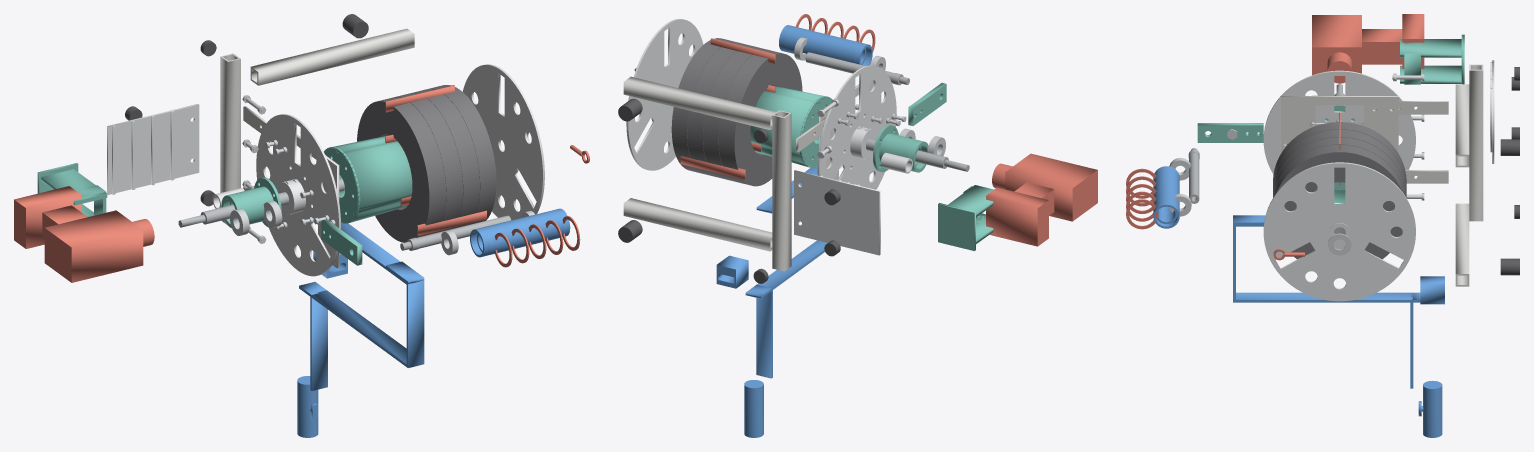
File: Navaneeth_Compact_40M_v2_Exploded.glb
The picture shows the model from 3 angles, left to right: view 1: azimuth 30°, elevation 25°; view 2: azimuth 150°, elevation 25°; view 3: azimuth 270°, elevation 25°; orthographic projection. The views are drawn at different scales.
Parts seen in each view (by area): view 1: REF-01_40m ALLWIN GOLD Tropfband-Rolle (4-Spur), REF-02_INGCO CIDLI12206 12V Bohrschrauber, P-01_Hinterer Flansch mit Nabe (REV-01/03), REF-03_Stationaerer Ventilanschluss & Bandpfad (REV-07), P-04_Vorderer Schutzflansch (REV-01), P-20_Fussplatte Z=12..18 (REV-05), P-02_Konische Trommel mit Umreifungskanaelen (REV-01), P-19_Bodenschienen Links & Rechts, P-18_Quertraeger Hohlprofil 20x20, P-15_Band-Fuehrungsrolle d=38mm (REV-02), P-21_Bohrschrauber-Drehmomentstuetze (REV-04), P-09_Abgesetztes Lagergehaeuse (REV-03) (+9 smaller); view 2: REF-01_40m ALLWIN GOLD Tropfband-Rolle (4-Spur), REF-02_INGCO CIDLI12206 12V Bohrschrauber, P-19_Bodenschienen Links & Rechts, P-01_Hinterer Flansch mit Nabe (REV-01/03), P-20_Fussplatte Z=12..18 (REV-05), P-04_Vorderer Schutzflansch (REV-01), REF-03_Stationaerer Ventilanschluss & Bandpfad (REV-07), P-18_Quertraeger Hohlprofil 20x20, P-02_Konische Trommel mit Umreifungskanaelen (REV-01), P-21_Bohrschrauber-Drehmomentstuetze (REV-04), P-15_Band-Fuehrungsrolle d=38mm (REV-02), P-23_Elastomer-Standfuesse & Pads (REV-05) (+9 smaller); view 3: P-04_Vorderer Schutzflansch (REV-01), REF-01_40m ALLWIN GOLD Tropfband-Rolle (4-Spur), REF-02_INGCO CIDLI12206 12V Bohrschrauber, P-01_Hinterer Flansch mit Nabe (REV-01/03), REF-03_Stationaerer Ventilanschluss & Bandpfad (REV-07), P-11_Haupt-Chassisplatte, P-19_Bodenschienen Links & Rechts, P-21_Bohrschrauber-Drehmomentstuetze (REV-04), P-18_Quertraeger Hohlprofil 20x20, P-15_Band-Fuehrungsrolle d=38mm (REV-02), P-17_Beinleisten Links & Rechts, P-12_Verstaerkter Fuehrungsarm 8mm (REV-02) (+7 smaller).
Boxes of the visible parts, x1,y1,x2,y2 form: REF-01_40m ALLWIN GOLD Tropfband-Rolle (4-Spur): (357, 85, 496, 242); REF-02_INGCO CIDLI12206 12V Bohrschrauber: (14, 186, 154, 282); P-01_Hinterer Flansch mit Nabe (REV-01/03): (256, 114, 340, 276); REF-03_Stationaerer Ventilanschluss & Bandpfad (REV-07): (297, 222, 424, 437); P-04_Vorderer Schutzflansch (REV-01): (462, 64, 544, 220); P-20_Fussplatte Z=12..18 (REV-05): (107, 104, 199, 194); P-02_Konische Trommel mit Umreifungskanaelen (REV-01): (324, 135, 412, 223); P-19_Bodenschienen Links & Rechts: (250, 28, 414, 85); P-18_Quertraeger Hohlprofil 20x20: (220, 53, 240, 225); P-15_Band-Fuehrungsrolle d=38mm (REV-02): (470, 208, 570, 257); P-21_Bohrschrauber-Drehmomentstuetze (REV-04): (37, 163, 107, 216); P-09_Abgesetztes Lagergehaeuse (REV-03): (221, 177, 281, 228); REF-01_40m ALLWIN GOLD Tropfband-Rolle (4-Spur): (671, 38, 802, 186); REF-02_INGCO CIDLI12206 12V Bohrschrauber: (986, 153, 1097, 246); P-19_Bodenschienen Links & Rechts: (623, 76, 775, 251); P-01_Hinterer Flansch mit Nabe (REV-01/03): (817, 65, 896, 189); P-20_Fussplatte Z=12..18 (REV-05): (794, 170, 880, 255); P-04_Vorderer Schutzflansch (REV-01): (626, 19, 703, 170); REF-03_Stationaerer Ventilanschluss & Bandpfad (REV-07): (744, 167, 827, 437); P-18_Quertraeger Hohlprofil 20x20: (772, 110, 791, 271); P-02_Konische Trommel mit Umreifungskanaelen (REV-01): (750, 85, 832, 167); P-21_Bohrschrauber-Drehmomentstuetze (REV-04): (938, 185, 993, 250); P-15_Band-Fuehrungsrolle d=38mm (REV-02): (779, 25, 872, 65); P-23_Elastomer-Standfuesse & Pads (REV-05): (618, 98, 840, 283); P-04_Vorderer Schutzflansch (REV-01): (1263, 162, 1415, 301); REF-01_40m ALLWIN GOLD Tropfband-Rolle (4-Spur): (1273, 122, 1406, 259); REF-02_INGCO CIDLI12206 12V Bohrschrauber: (1312, 14, 1424, 83); P-01_Hinterer Flansch mit Nabe (REV-01/03): (1263, 70, 1415, 174); REF-03_Stationaerer Ventilanschluss & Bandpfad (REV-07): (1233, 215, 1442, 437); P-11_Haupt-Chassisplatte: (1281, 96, 1398, 153); P-19_Bodenschienen Links & Rechts: (1455, 84, 1469, 286); P-21_Bohrschrauber-Drehmomentstuetze (REV-04): (1400, 34, 1464, 84); P-18_Quertraeger Hohlprofil 20x20: (1469, 64, 1483, 221); P-15_Band-Fuehrungsrolle d=38mm (REV-02): (1153, 166, 1179, 228); P-17_Beinleisten Links & Rechts: (1391, 101, 1448, 183); P-12_Verstaerkter Fuehrungsarm 8mm (REV-02): (1197, 123, 1263, 142).
Size of the model in its own units: 765 by 545 by 568.
